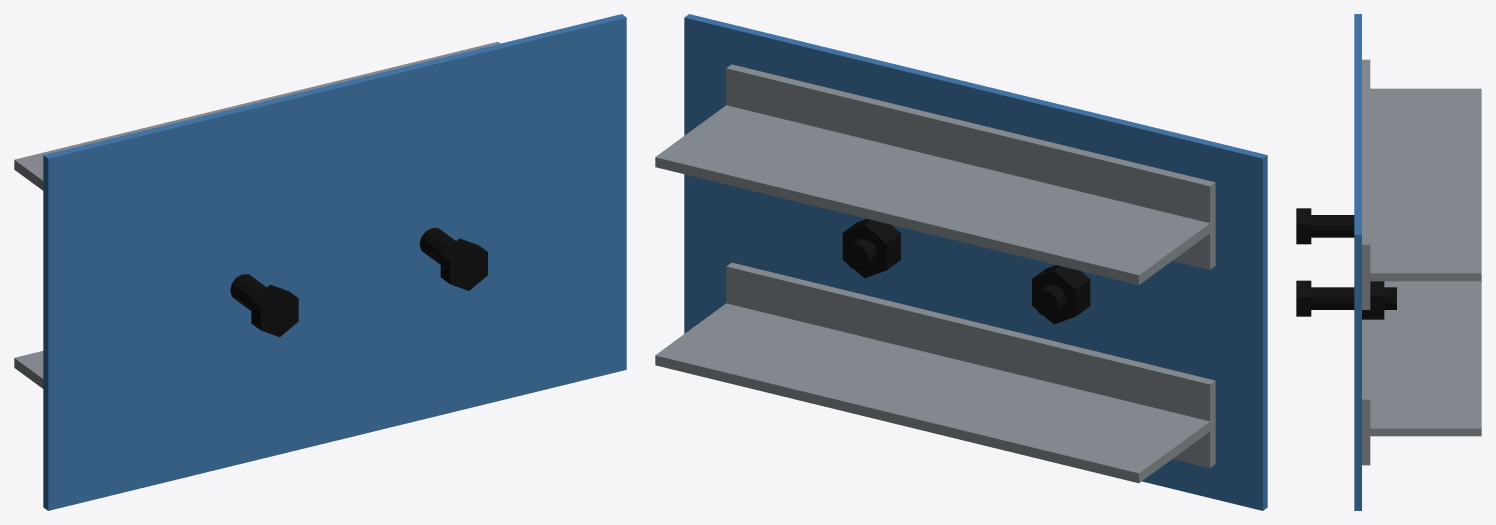
File: step_detail.obj
3 renders of one model, left to right at view 1: azimuth 30°, elevation 25°; view 2: azimuth 150°, elevation 25°; view 3: azimuth 270°, elevation 25°, orthographic. The views are drawn at different scales.
Visible parts, largest first — view 1: plate_4mm_tread_275x160, bolt_M14_from_f14_step_1, bolt_M14_from_f14_step_2, L63x38x4_5_angle_vertical_45, L63x38x4_5_angle_vertical_-45; view 2: plate_4mm_tread_275x160, L63x38x4_5_angle_vertical_45, L63x38x4_5_angle_vertical_-45, L63x38x4_5_angle_horizontal_-45, L63x38x4_5_angle_horizontal_45, bolt_M14_from_f14_step_1, bolt_M14_from_f14_step_2; view 3: L63x38x4_5_angle_vertical_45, L63x38x4_5_angle_vertical_-45, plate_4mm_tread_275x160, bolt_M14_from_f14_step_2, L63x38x4_5_angle_horizontal_45, bolt_M14_from_f14_step_1, L63x38x4_5_angle_horizontal_-45.
Part boxes in pixels (left/top/right/bottom): plate_4mm_tread_275x160: left=43, top=14, right=626, bottom=510; bolt_M14_from_f14_step_1: left=230, top=274, right=298, bottom=337; bolt_M14_from_f14_step_2: left=419, top=228, right=487, bottom=290; L63x38x4_5_angle_vertical_45: left=14, top=41, right=500, bottom=190; L63x38x4_5_angle_vertical_-45: left=14, top=351, right=43, bottom=388; plate_4mm_tread_275x160: left=684, top=14, right=1267, bottom=510; L63x38x4_5_angle_vertical_45: left=655, top=105, right=1215, bottom=284; L63x38x4_5_angle_vertical_-45: left=655, top=303, right=1215, bottom=483; L63x38x4_5_angle_horizontal_-45: left=726, top=262, right=1215, bottom=467; L63x38x4_5_angle_horizontal_45: left=726, top=64, right=1215, bottom=269; bolt_M14_from_f14_step_1: left=1032, top=265, right=1090, bottom=324; bolt_M14_from_f14_step_2: left=842, top=219, right=900, bottom=277; L63x38x4_5_angle_vertical_45: left=1362, top=88, right=1481, bottom=281; L63x38x4_5_angle_vertical_-45: left=1362, top=281, right=1481, bottom=436; plate_4mm_tread_275x160: left=1354, top=14, right=1361, bottom=510; bolt_M14_from_f14_step_2: left=1296, top=280, right=1396, bottom=319; L63x38x4_5_angle_horizontal_45: left=1362, top=59, right=1370, bottom=309; bolt_M14_from_f14_step_1: left=1296, top=208, right=1354, bottom=244; L63x38x4_5_angle_horizontal_-45: left=1362, top=319, right=1370, bottom=465.
Size of the model in its own units: 275 by 160 by 97.46.
